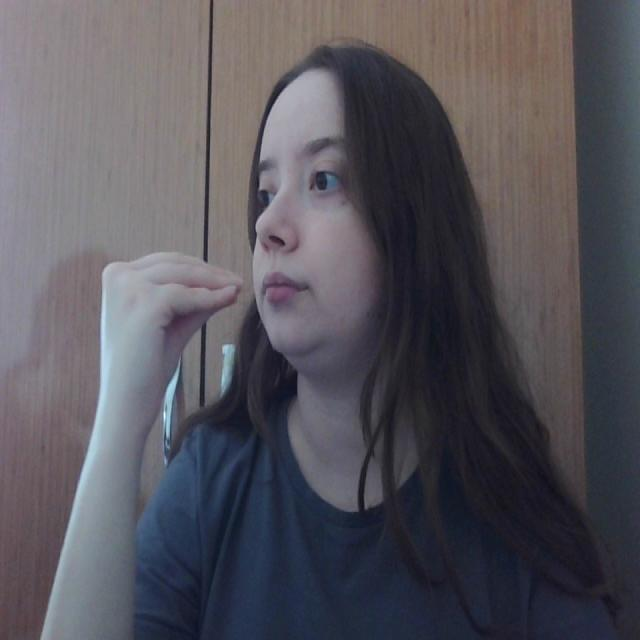Yemek: (96, 246, 313, 326)
